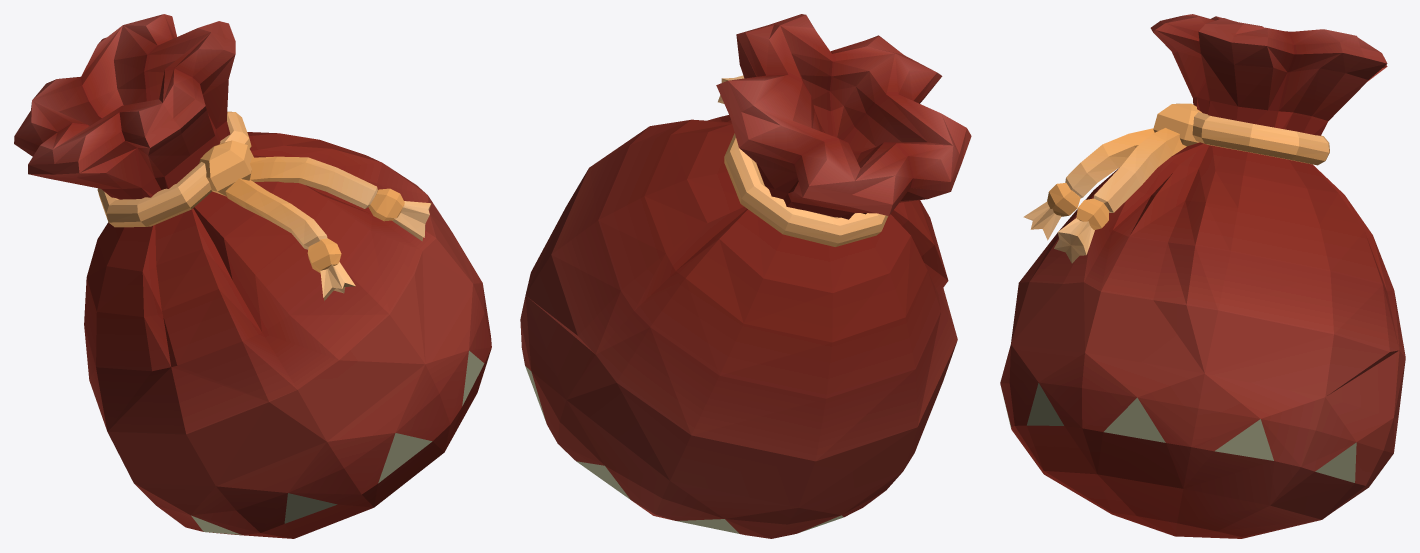
Rendered from CharSkyKid_Prop_SnowGlobe.glb.
3 views of the same model, side by side, from view 1: azimuth 30°, elevation 25°; view 2: azimuth 150°, elevation 25°; view 3: azimuth 270°, elevation 25° (orthographic). The views are drawn at different scales.
Visible parts, largest first — view 1: CharSkyKid_Prop_SnowGlobe; view 2: CharSkyKid_Prop_SnowGlobe; view 3: CharSkyKid_Prop_SnowGlobe.
Part boxes in pixels (x1=…): CharSkyKid_Prop_SnowGlobe: x1=14, y1=14, x2=491, y2=538; CharSkyKid_Prop_SnowGlobe: x1=520, y1=14, x2=971, y2=538; CharSkyKid_Prop_SnowGlobe: x1=1000, y1=14, x2=1405, y2=538.
Bounding box in the file's own units: 3.39 × 3.79 × 2.91.
1 material, 1 textured.
